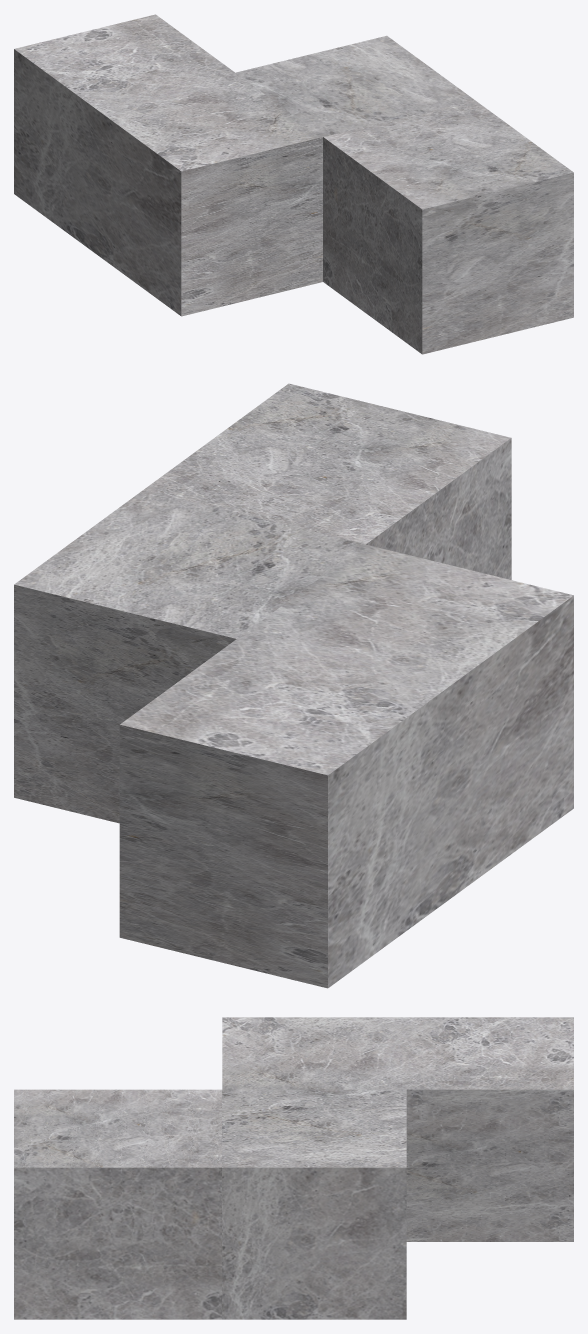
Rendered from Plat6.fbx.
The picture shows the model from 3 angles, top to bottom: view 1: azimuth 30°, elevation 25°; view 2: azimuth 150°, elevation 25°; view 3: azimuth 270°, elevation 25°; orthographic projection. The views are drawn at different scales.
Parts seen in each view (by area): view 1: plat6; view 2: plat6; view 3: plat6.
Part boxes in pixels (x1,y1,x2,y2): plat6: [14, 14, 573, 354]; plat6: [14, 383, 573, 988]; plat6: [14, 1017, 573, 1319].
Size of the model in its own units: 0.0285 by 0.0134 by 0.0448.
1 material, 1 textured.
